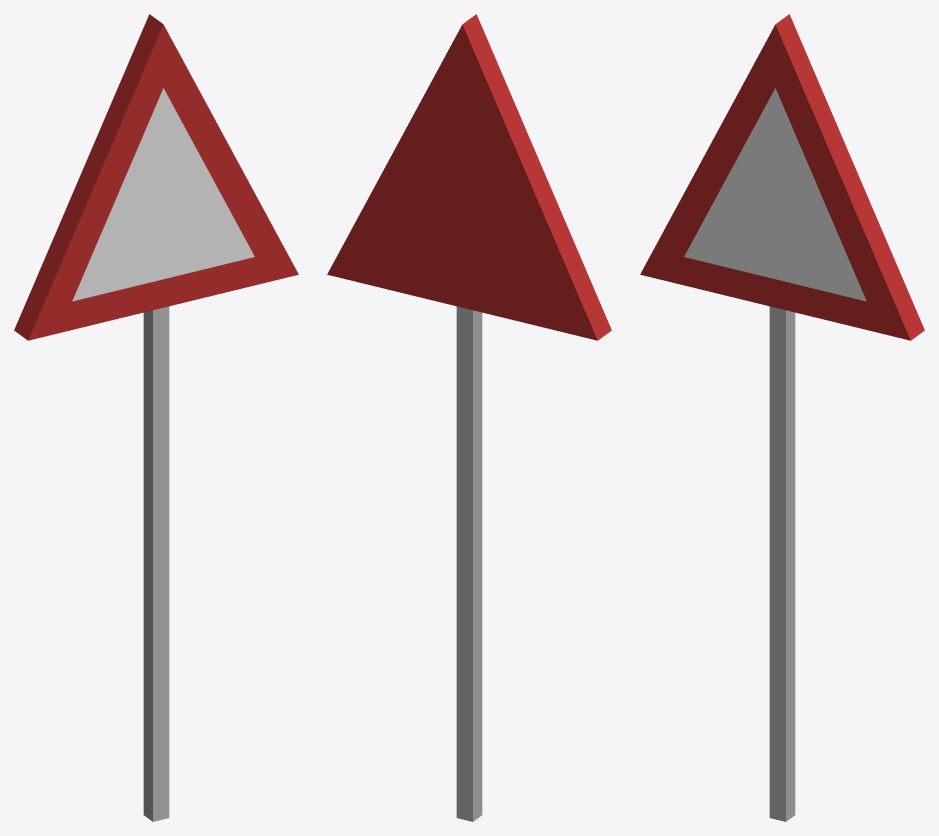
File: Road_Sign_3.fbx
3 views of the same model, side by side, from view 1: azimuth 30°, elevation 25°; view 2: azimuth 150°, elevation 25°; view 3: azimuth 330°, elevation 25° (orthographic).
Visible parts, largest first — view 1: Road_Sign_3; view 2: Road_Sign_3; view 3: Road_Sign_3.
Boxes of the visible parts, x1,y1,x2,y2 form: Road_Sign_3: (14, 14, 298, 821); Road_Sign_3: (327, 14, 611, 821); Road_Sign_3: (640, 14, 924, 821).
Size of the model in its own units: 92.01 by 259 by 8.3.
1 material, 1 textured.
